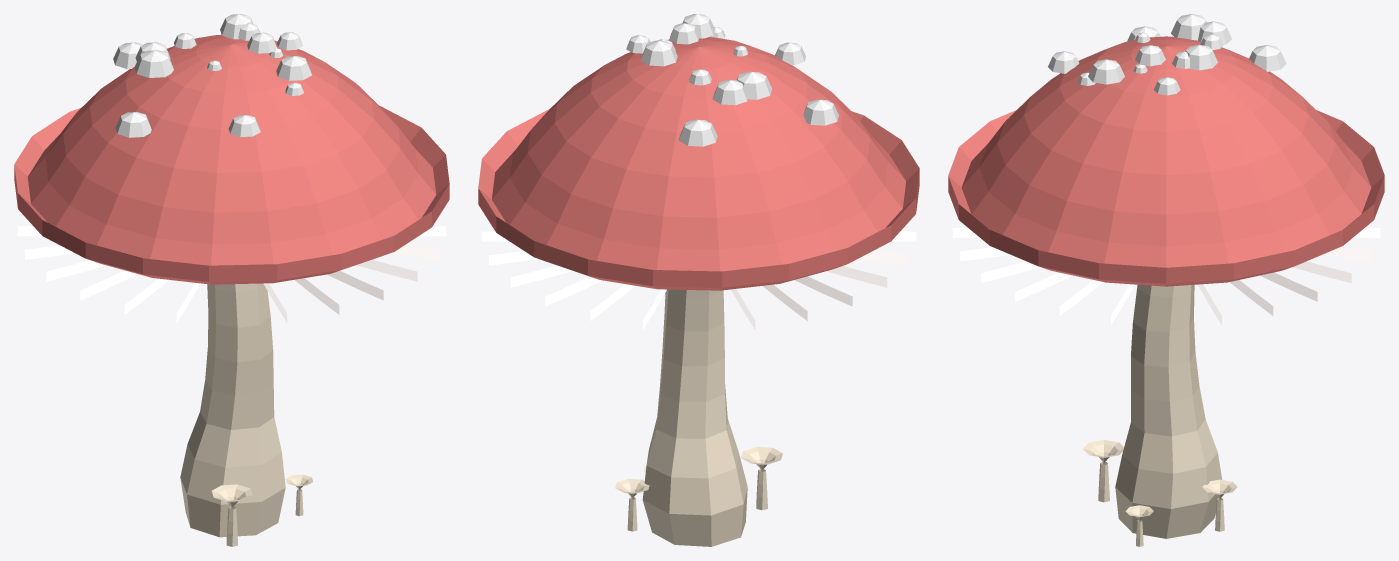
File: Mushroom_Tree.glb
The picture shows the model from 3 angles, left to right: view 1: azimuth 30°, elevation 25°; view 2: azimuth 150°, elevation 25°; view 3: azimuth 270°, elevation 25°; orthographic projection.
Visible parts, largest first — view 1: Mushroom_Tree_Cap, Mushroom_Tree_Stalk, White_Spots, Mushroom_Tree_Gills, Mini_Mushroom.001; view 2: Mushroom_Tree_Cap, Mushroom_Tree_Stalk, White_Spots, Mushroom_Tree_Gills, Mini_Mushroom.001, Mini_Mushroom; view 3: Mushroom_Tree_Cap, Mushroom_Tree_Stalk, White_Spots, Mushroom_Tree_Gills, Mini_Mushroom.001, Mini_Mushroom.
Boxes of the visible parts, x1,y1,x2,y2 form: Mushroom_Tree_Cap: (14,34,449,284); Mushroom_Tree_Stalk: (180,283,285,537); White_Spots: (113,14,311,137); Mushroom_Tree_Gills: (17,226,446,322); Mini_Mushroom.001: (211,484,252,546); Mushroom_Tree_Cap: (478,37,919,290); Mushroom_Tree_Stalk: (642,289,747,546); White_Spots: (626,14,838,146); Mushroom_Tree_Gills: (481,231,916,329); Mini_Mushroom.001: (741,447,782,510); Mini_Mushroom: (615,478,649,531); Mushroom_Tree_Cap: (948,36,1384,286); Mushroom_Tree_Stalk: (1115,284,1222,538); White_Spots: (1048,14,1286,95); Mushroom_Tree_Gills: (952,228,1380,324); Mini_Mushroom.001: (1083,439,1123,502); Mini_Mushroom: (1202,479,1237,531).
Size of the model in its own units: 1.17 by 1.44 by 1.17.
